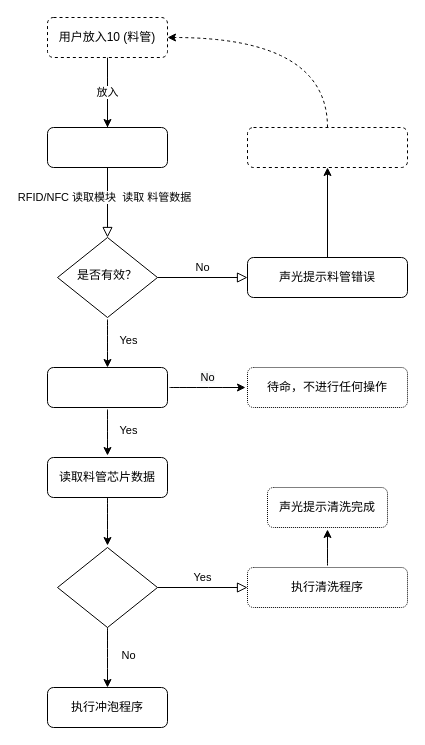
Image size: 425x745. Some labels were removed from this diagram. The shapes that lost their labels are listed below. From the top down, each one's centre as x and y in pixels, then its label:
At point (107, 147): "料管夹持模块".
At point (327, 147): "用户取出无效料管".
At point (107, 387): "杯座上是否有杯子".
At point (107, 587): "是否为清洗 料管?".
